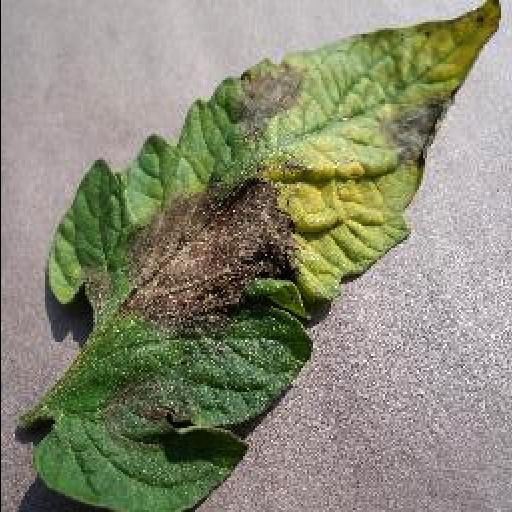disease_tomato: (32, 0, 506, 512)
